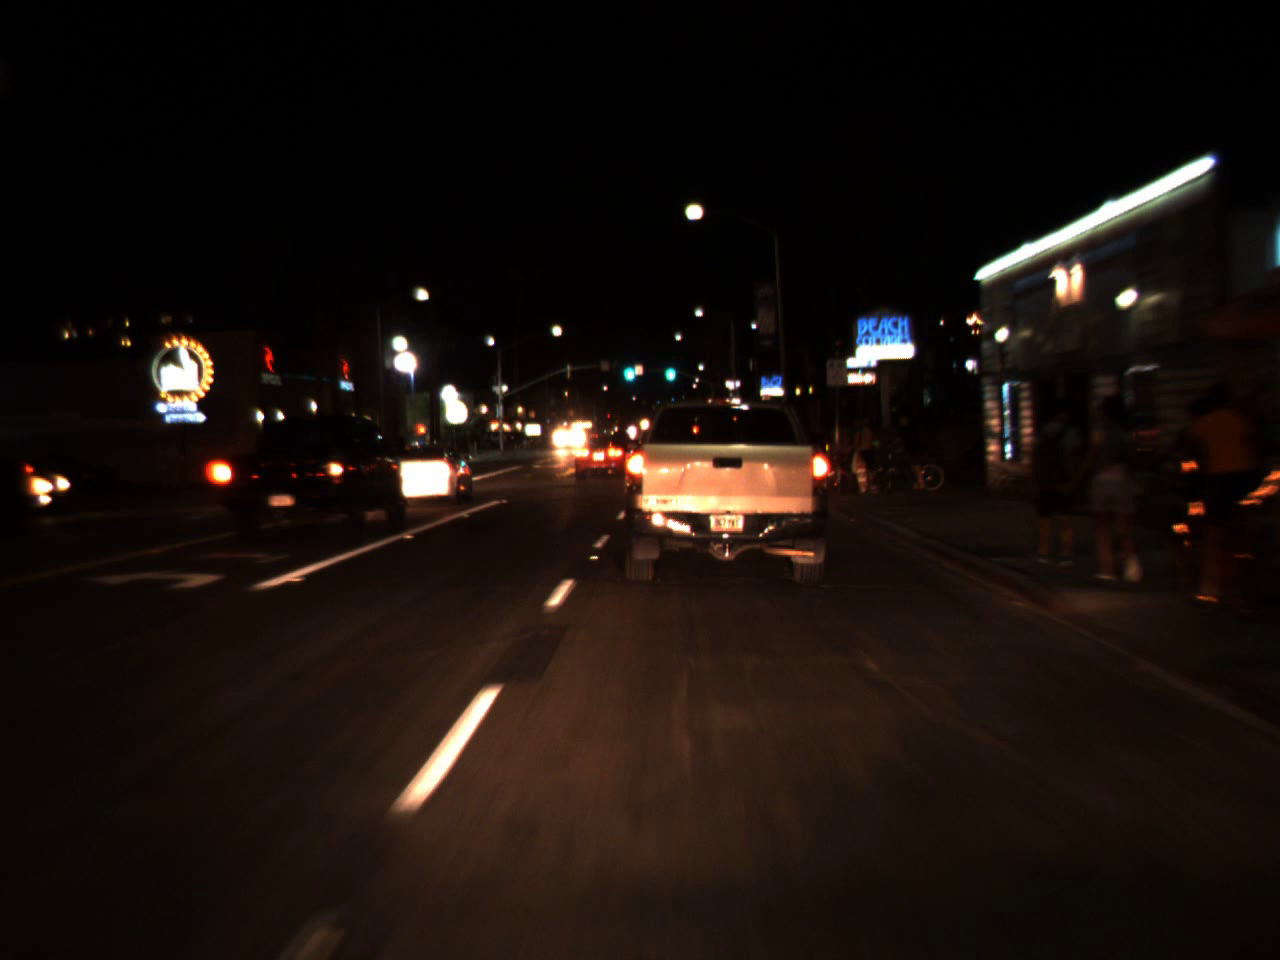go: (618, 350, 637, 386), (661, 352, 677, 385)
